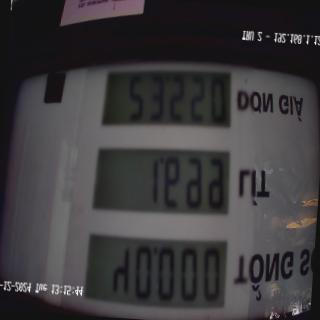screen: (78, 49, 245, 318)
